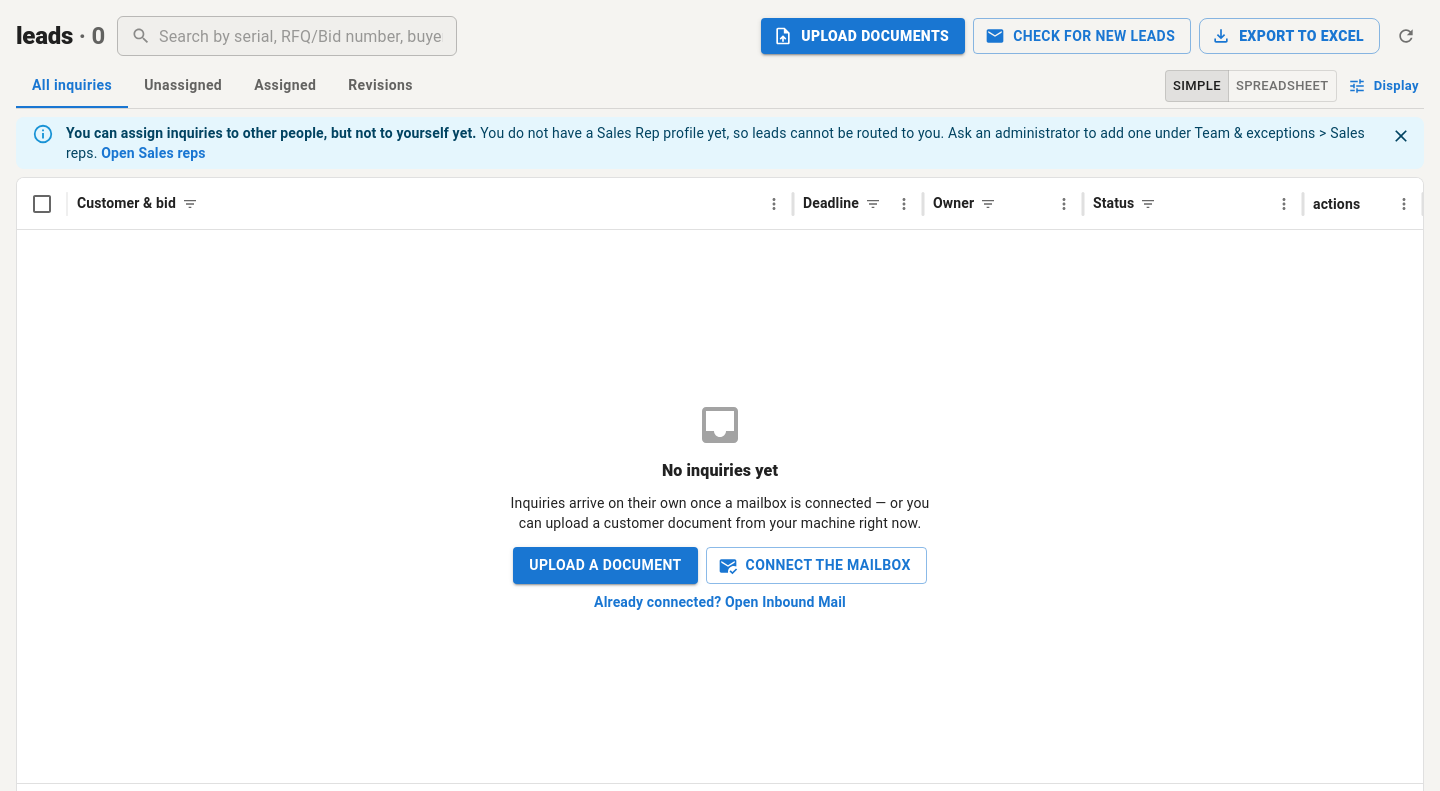
LeadsPage — a tenant with no inquiries at all › says "No inquiries yet" to a manager even when they narrow the list to Unassigned
Expected: the text "No inquiries yet" is shown, [662, 459, 778, 483]
Click the button named "Filter by owner": [988, 204] box [976, 192, 1000, 216]
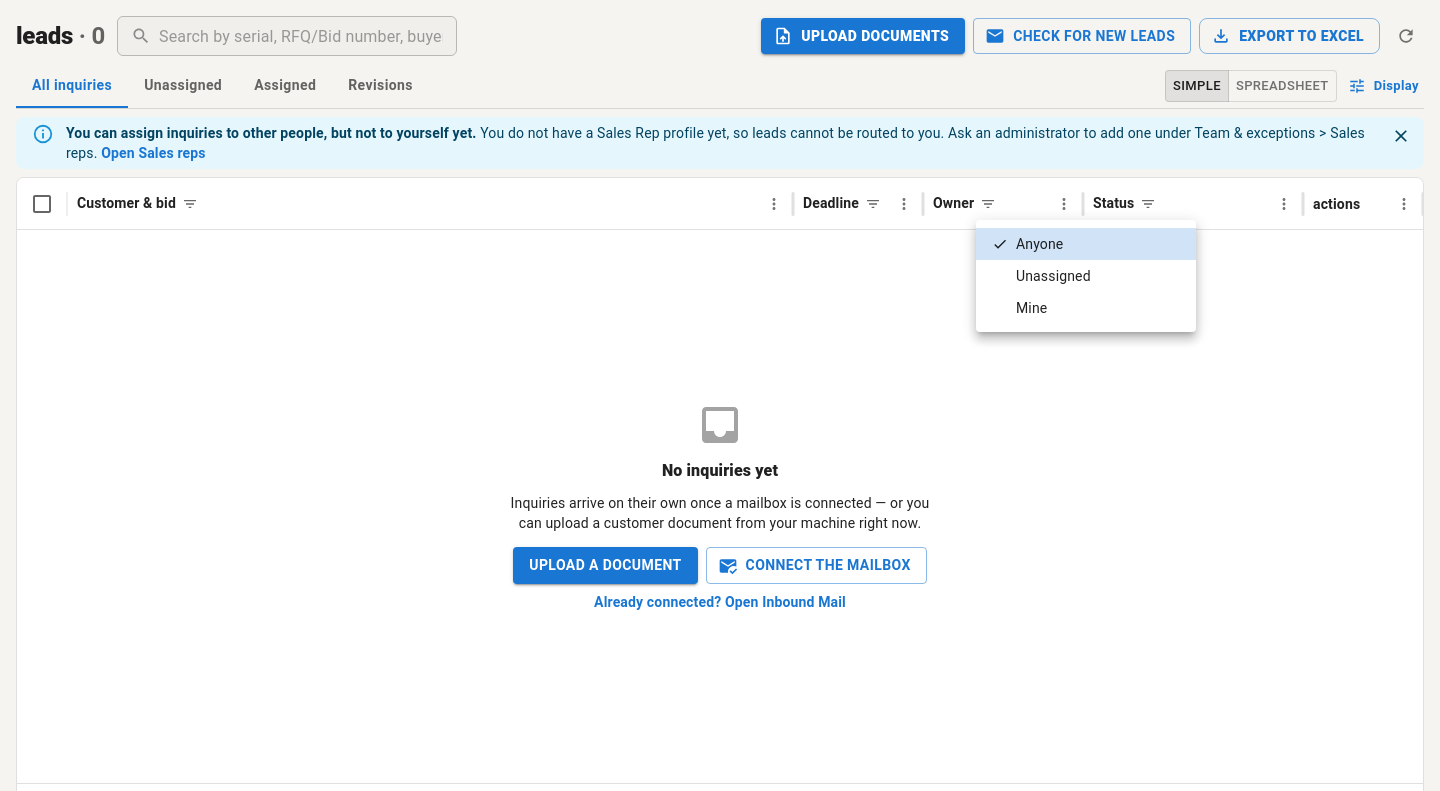
Click the menu item "Unassigned": [1053, 276] box [1016, 268, 1091, 284]
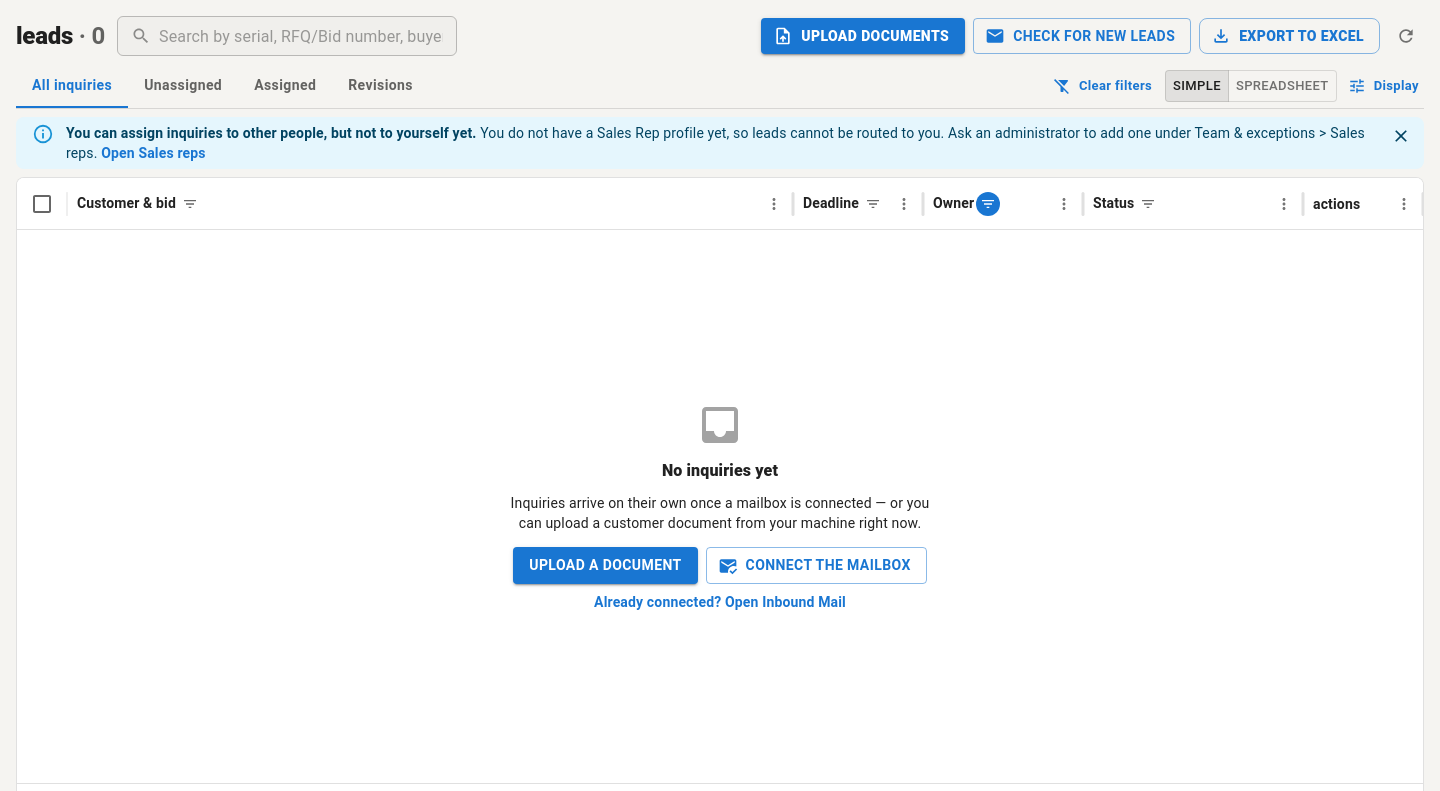
Expected: the text "No inquiries yet" is shown, [662, 459, 778, 483]
Now the menu "every inquiry here already has an owner" is gone
